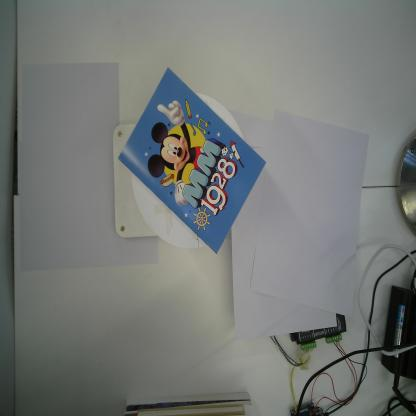Stationery: (116, 64, 266, 254)
